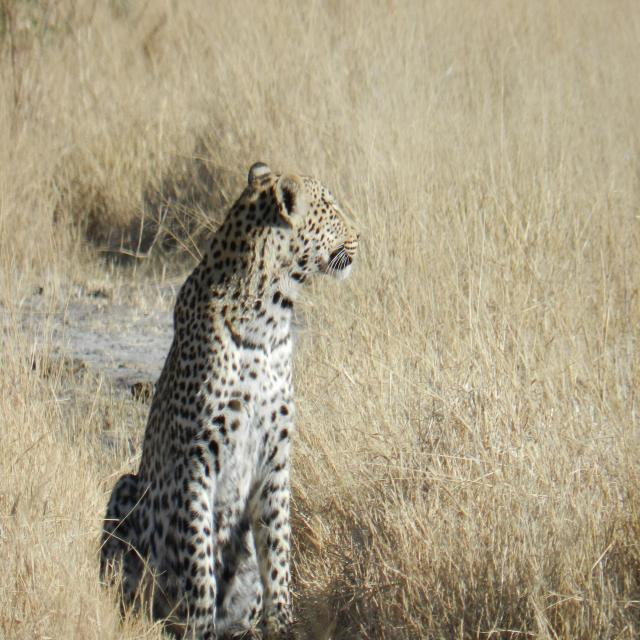Leopard: (94, 160, 356, 640)
